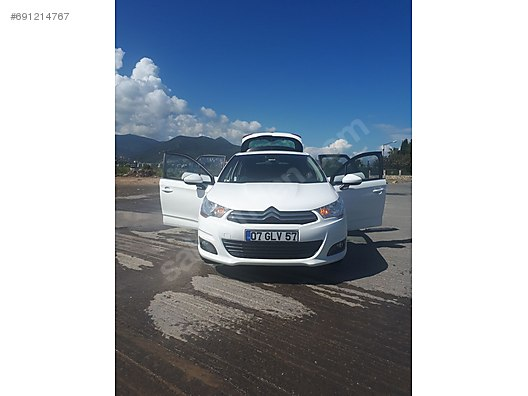citroen: (195, 128, 349, 276)
